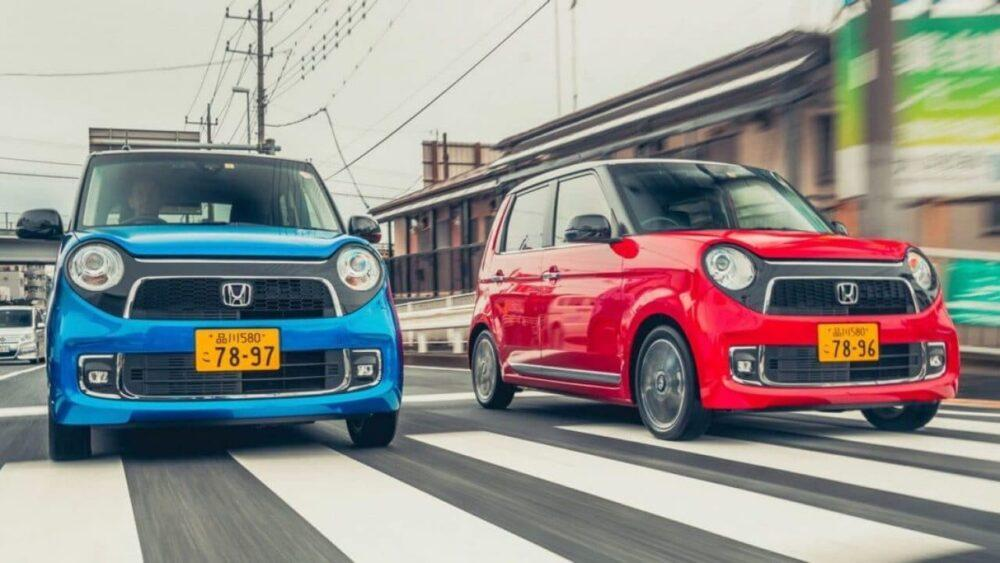windshield: (72, 155, 347, 240), (597, 160, 839, 233)
